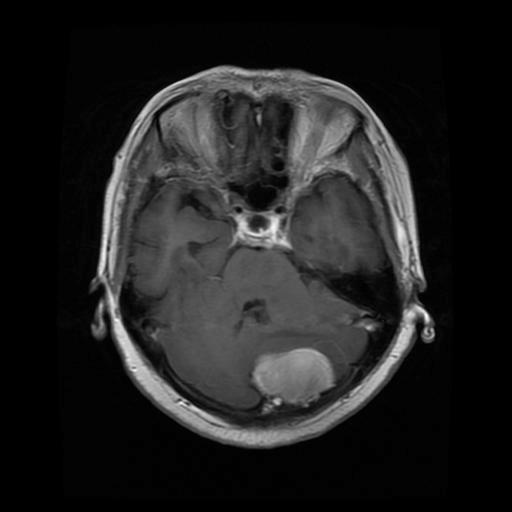Tumour-Meningioma: (236, 329, 351, 429)
